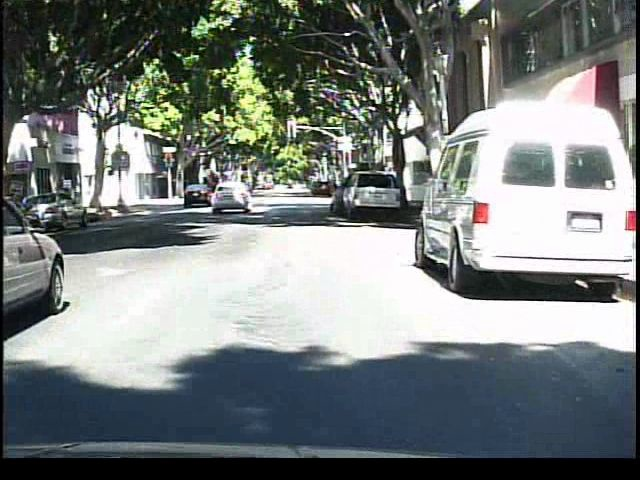person: (222, 171, 244, 206)
